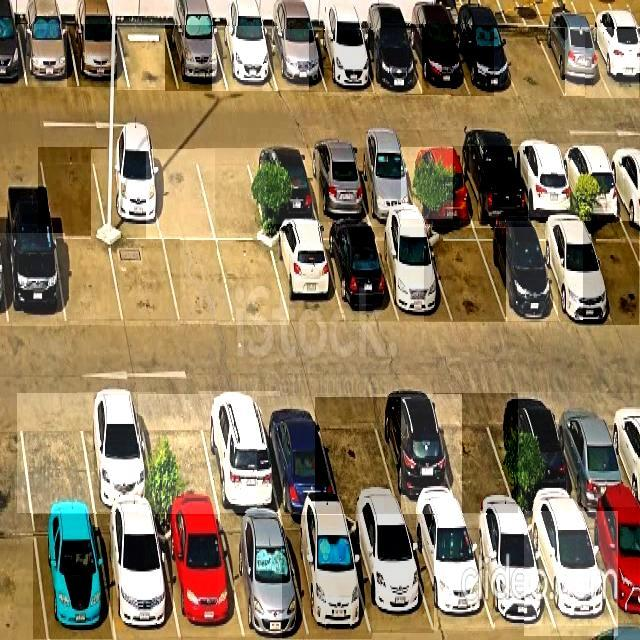empty: (315, 397, 401, 514), (434, 394, 518, 513), (139, 394, 220, 514), (18, 393, 94, 513), (425, 229, 506, 322), (196, 148, 267, 240), (147, 149, 215, 240), (110, 240, 180, 326), (39, 148, 107, 236), (164, 241, 236, 324), (218, 242, 289, 325), (56, 239, 123, 325), (584, 222, 639, 325), (494, 28, 565, 99), (117, 24, 180, 90)
occupied: (524, 511, 618, 636), (283, 516, 372, 640), (371, 395, 462, 514), (219, 516, 308, 637), (157, 516, 244, 637), (345, 515, 434, 633), (465, 514, 556, 629), (404, 515, 494, 631), (98, 515, 179, 637), (199, 392, 280, 513), (34, 515, 113, 639), (553, 394, 636, 510), (257, 396, 339, 512), (78, 392, 156, 512), (503, 393, 581, 512), (531, 222, 614, 319), (476, 228, 558, 321), (374, 227, 452, 322), (269, 227, 343, 325), (322, 227, 399, 321), (582, 508, 640, 629), (91, 149, 162, 239), (0, 234, 65, 326), (453, 147, 528, 221), (247, 148, 319, 224), (301, 148, 371, 222), (350, 147, 420, 220), (402, 148, 473, 219), (509, 144, 578, 217), (538, 28, 612, 96), (451, 26, 518, 96), (558, 144, 624, 215), (406, 25, 470, 95), (357, 28, 422, 94), (213, 27, 278, 91), (165, 25, 228, 91), (309, 31, 374, 92), (68, 25, 129, 87), (585, 29, 639, 98), (19, 24, 78, 87), (264, 30, 325, 90)
